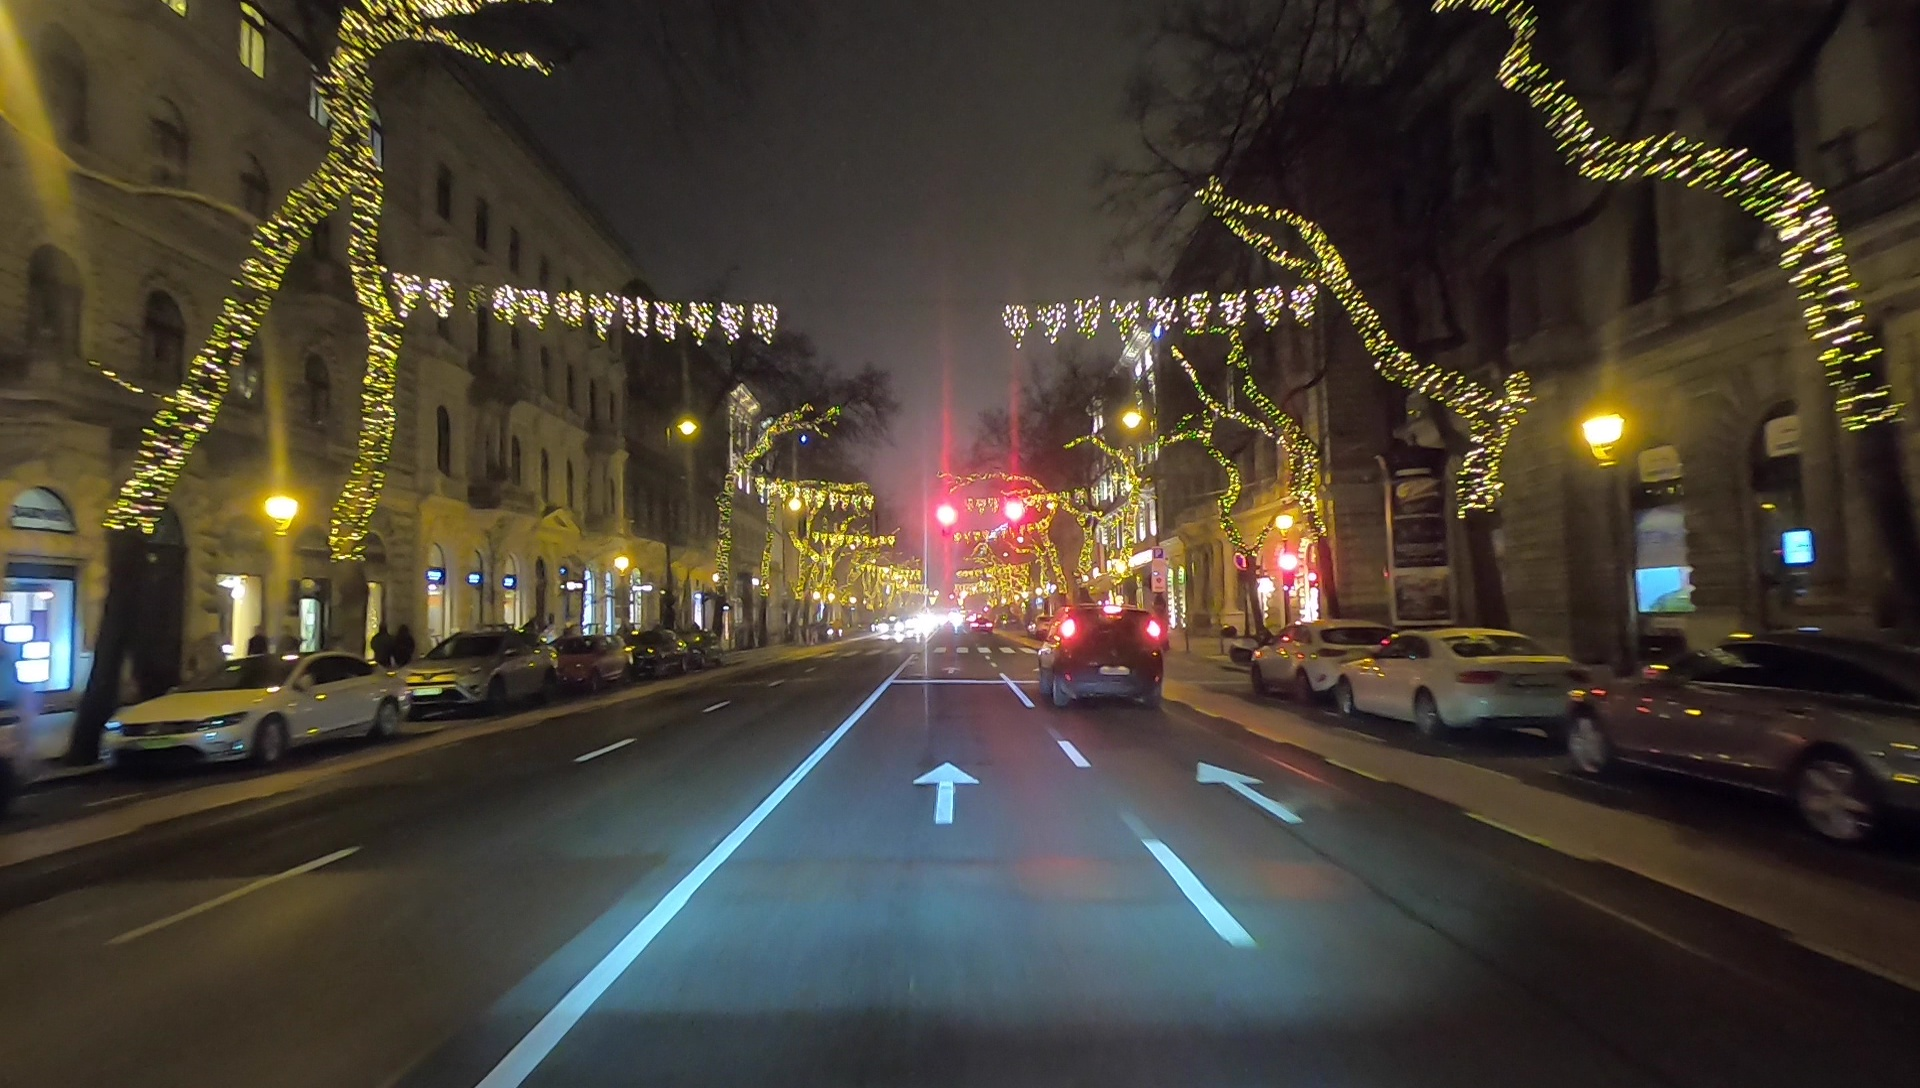person: (372, 622, 392, 686), (394, 624, 413, 689)
